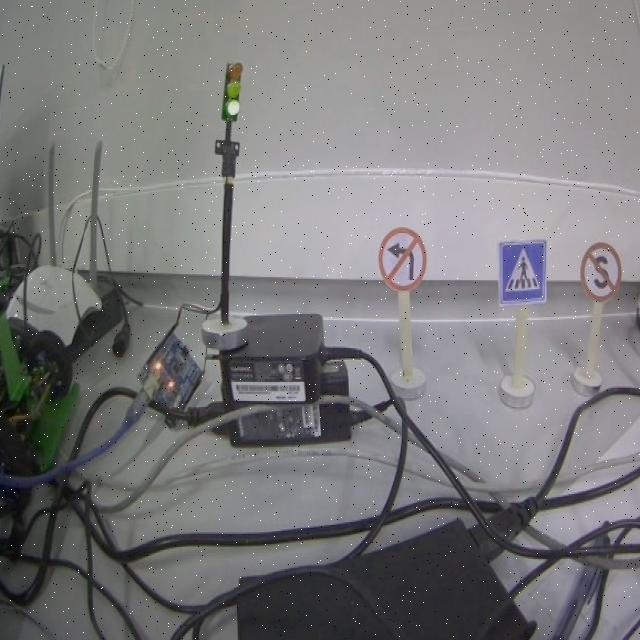Dilarang Belok Kiri: (379, 227, 426, 289)
Lampu Hijau: (222, 62, 242, 121)
Rambu Berhenti: (582, 243, 622, 300)
Rambu Penyebrangan: (498, 239, 547, 304)
